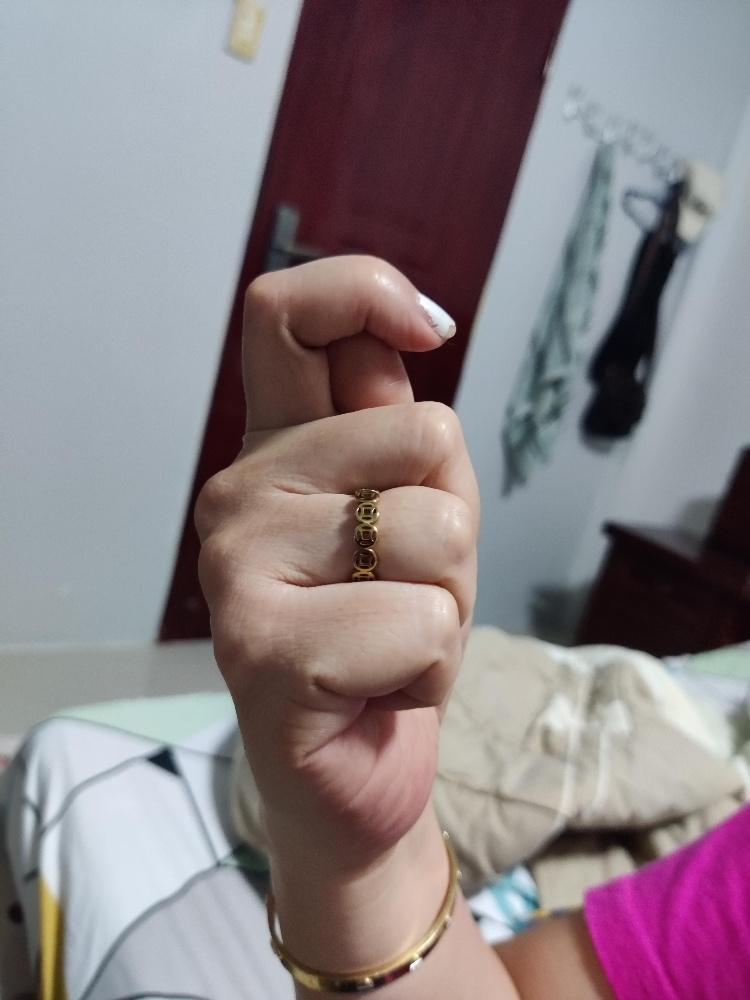t: (191, 251, 484, 860)
